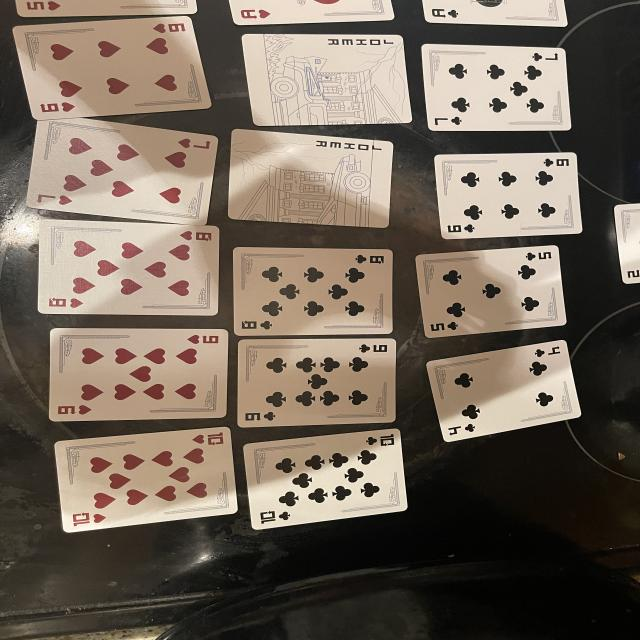4 of clubs: (55, 428, 238, 532), (427, 340, 582, 441)
5 of clubs: (415, 245, 567, 338)
5 of hearts: (15, 0, 197, 18)
6 of clubs: (435, 152, 582, 239)
6 of hearts: (13, 16, 212, 120)
7 of clubs: (422, 44, 572, 131)
7 of hearts: (27, 119, 218, 225)
8 of clubs: (233, 248, 393, 336)
8 of hearts: (38, 220, 218, 315)
9 of clubs: (237, 339, 397, 428)
9 of hearts: (48, 329, 228, 421)
Ace of clubs: (422, 0, 567, 28)
Ace of hearts: (228, 0, 395, 25)
Joker: (228, 129, 393, 228), (242, 34, 412, 126)
